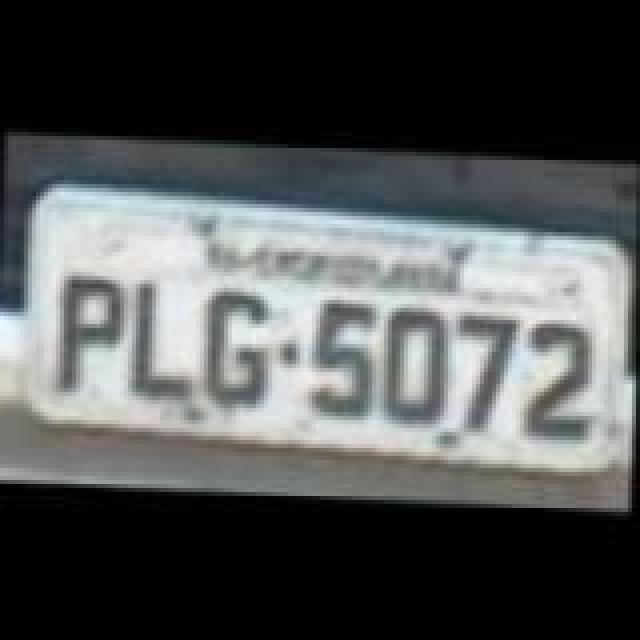2: (518, 318, 606, 438)
5: (302, 298, 382, 422)
7: (450, 308, 530, 428)
G: (198, 286, 278, 410)
L: (128, 280, 204, 408)
O: (378, 306, 458, 426)
P: (56, 272, 132, 396)
